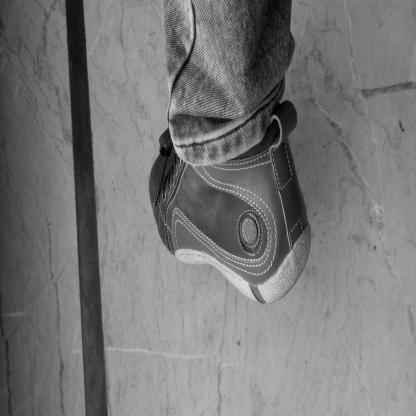ankle: (207, 161, 215, 173)
heel: (291, 265, 298, 276)
left_foot: (151, 125, 313, 305)
pinky: (153, 193, 157, 200)
toe: (161, 155, 168, 164)
